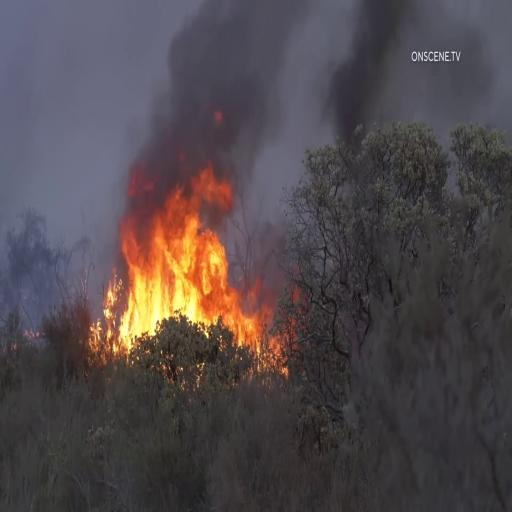fire: (120, 177, 255, 356)
smoke: (160, 9, 403, 134)
